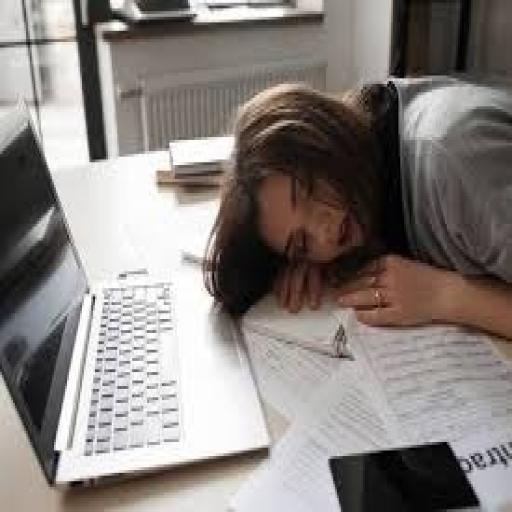sleeping: (201, 67, 510, 341)
